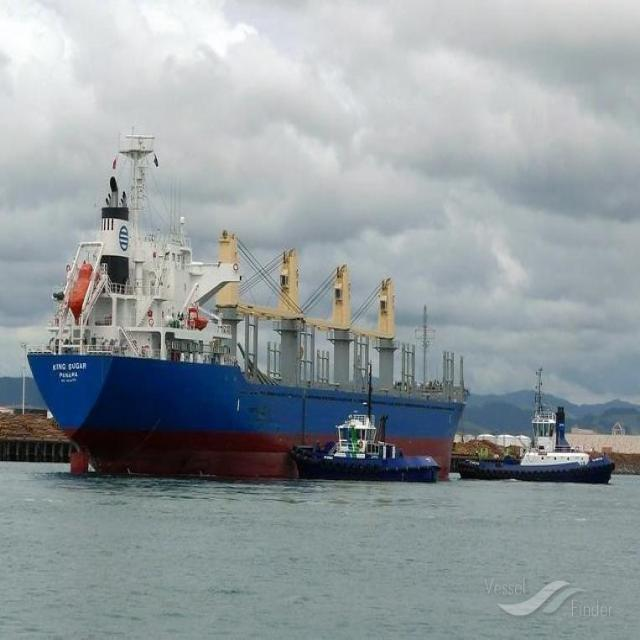OCR: (47, 360, 90, 391)
